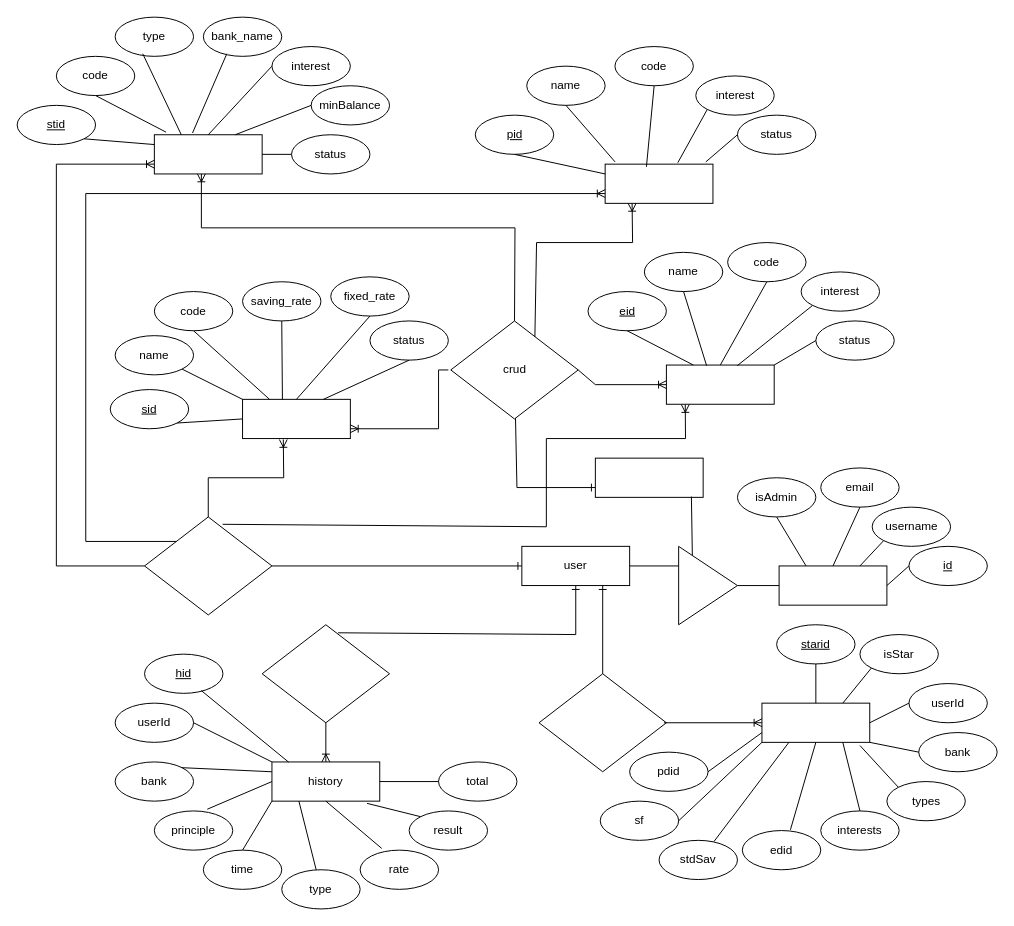
This 1014x926 diagram has some shape labels left out. The centre of each missing label's shape, as x and y in pixels:
"adds" belongs at (x=602, y=722).
"admin" belongs at (x=648, y=477).
"education_loan" belongs at (x=719, y=384).
"IS A" belongs at (x=707, y=585).
"personal_loan" belongs at (x=658, y=183).
"saves" belongs at (x=325, y=673).
"saving_fixed" belongs at (x=296, y=418).
"star" belongs at (x=815, y=722).
"student_saving" belongs at (x=207, y=154).
"users" belongs at (x=832, y=585).
"view" belongs at (x=208, y=565).
